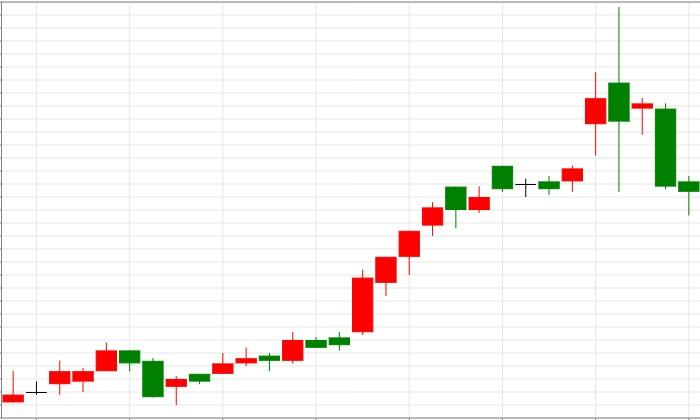bearish_engulfing_fall: (142, 6, 631, 405)
